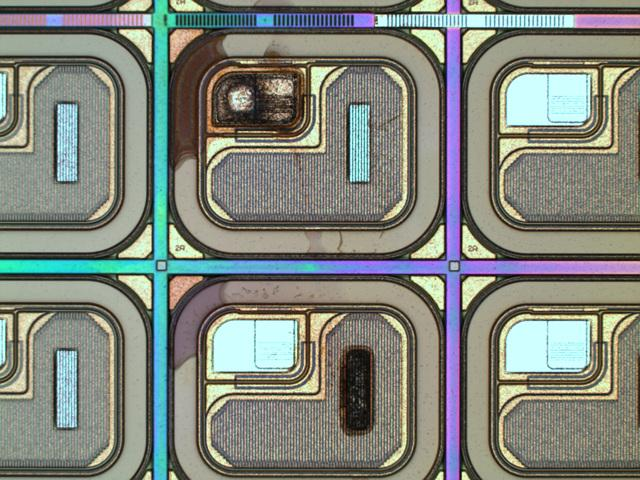SEZ BURNT: (160, 1, 380, 440)
